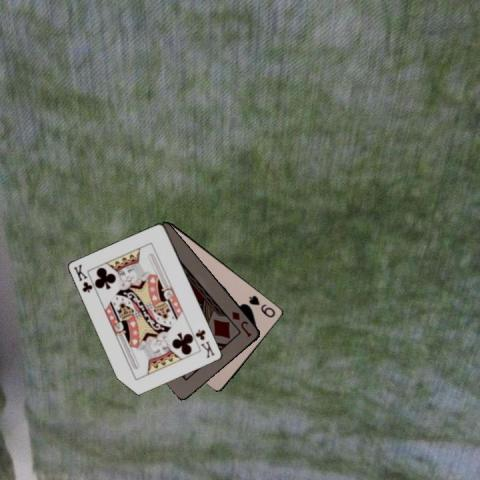9s: (246, 292, 277, 319)
Jd: (230, 308, 254, 339)
Kc: (71, 261, 94, 294), (193, 327, 216, 359)
